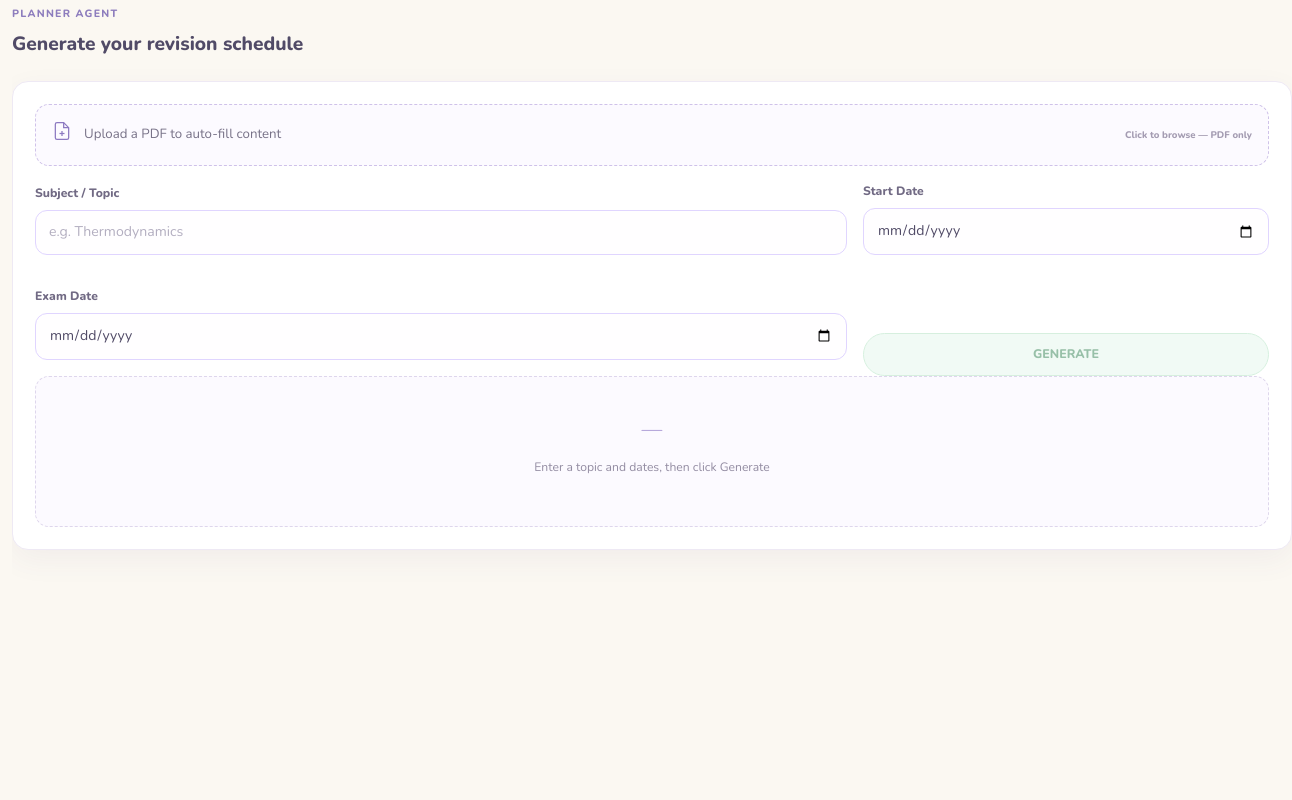
Test: shows a clear error instead of rendering blank task and duration cells
Type "Algebra" into the field labelled "Subject / Topic" at (441, 233), box 35,210 -> 847,255
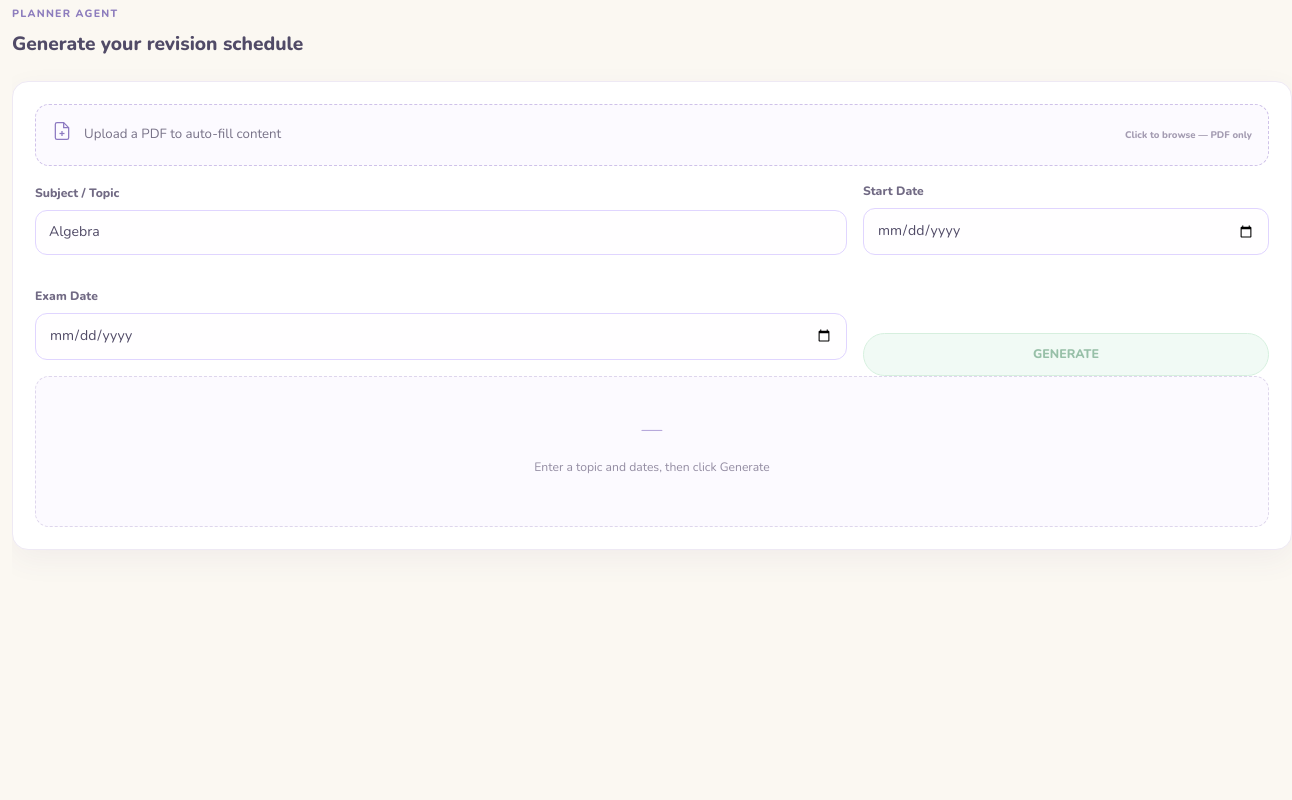
Type "2026-11-19" into the date field labelled "Start Date" at (1066, 232), box 863,208 -> 1269,255
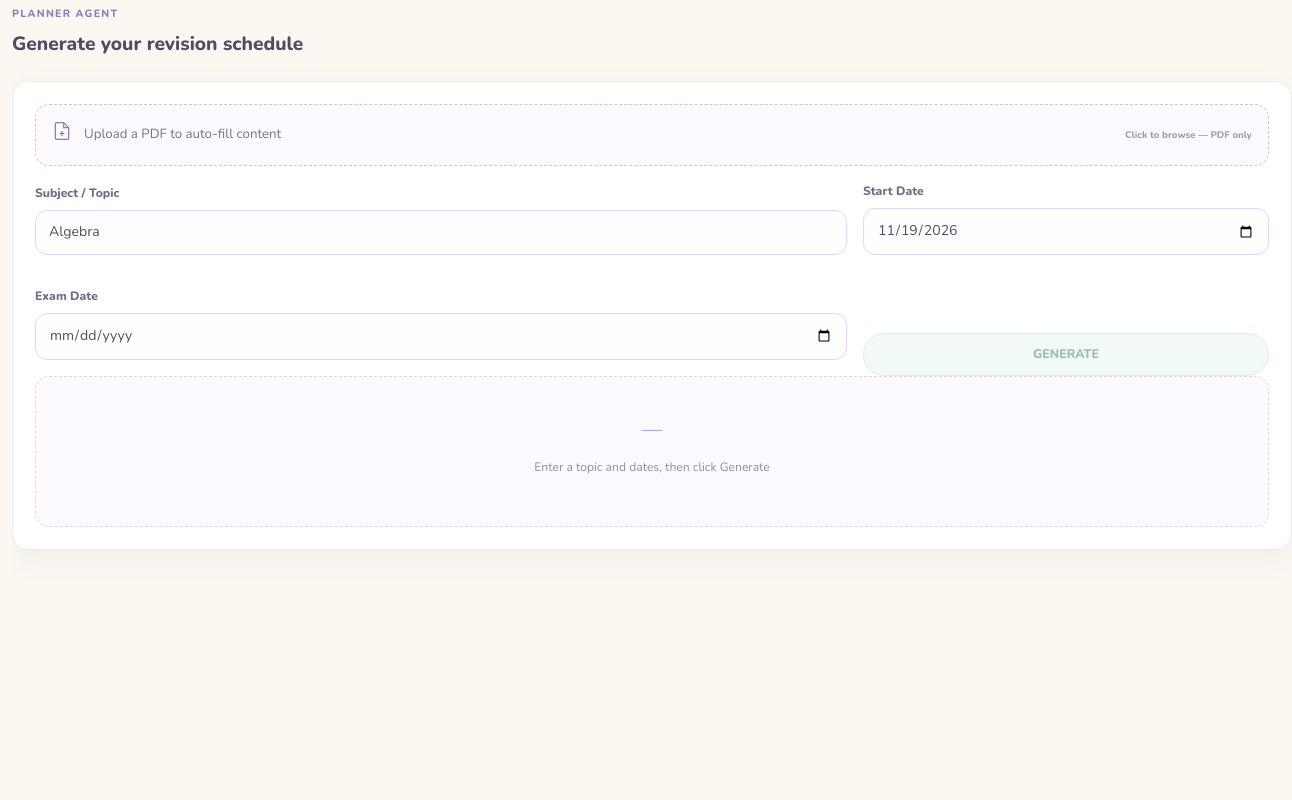
Type "2026-11-19" into the date field labelled "Exam Date" at (441, 336), box 35,313 -> 847,360
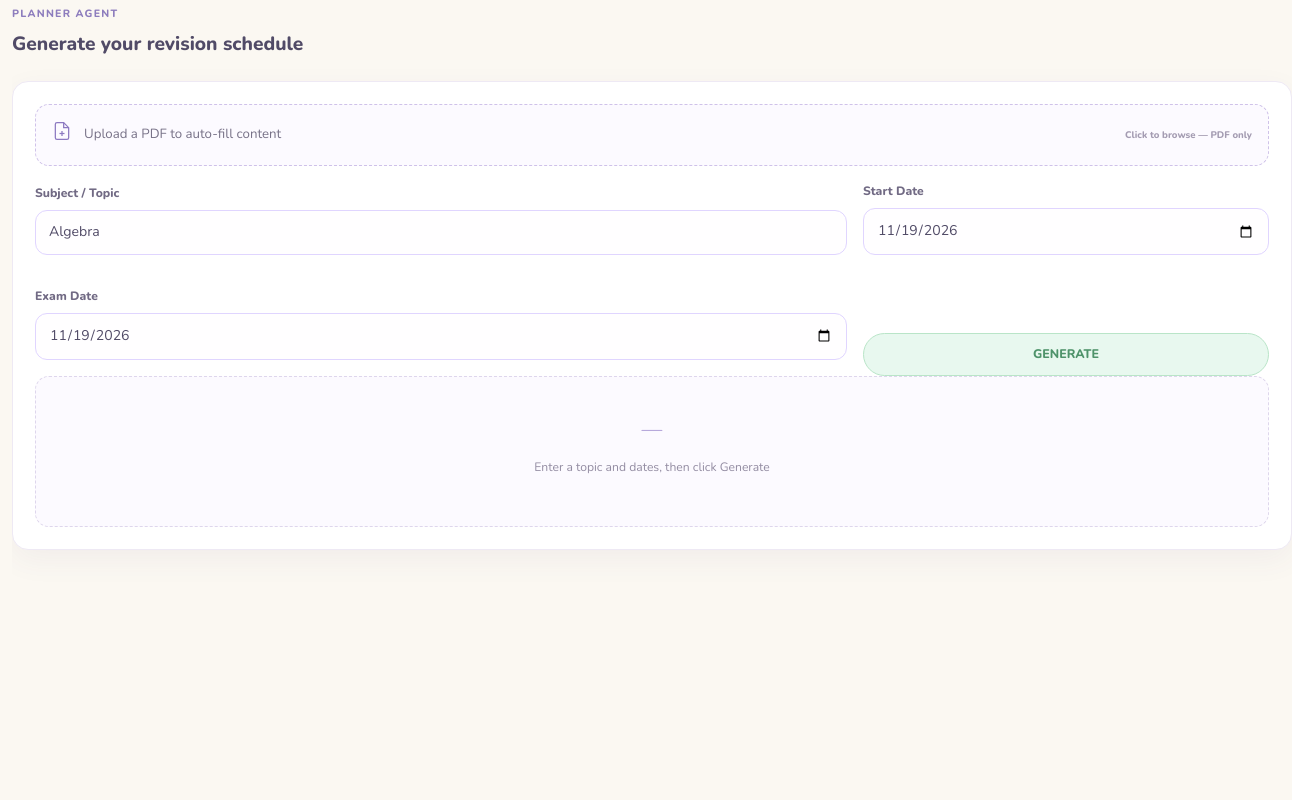
Click the button "GENERATE" at (1066, 354), box 863,333 -> 1269,376
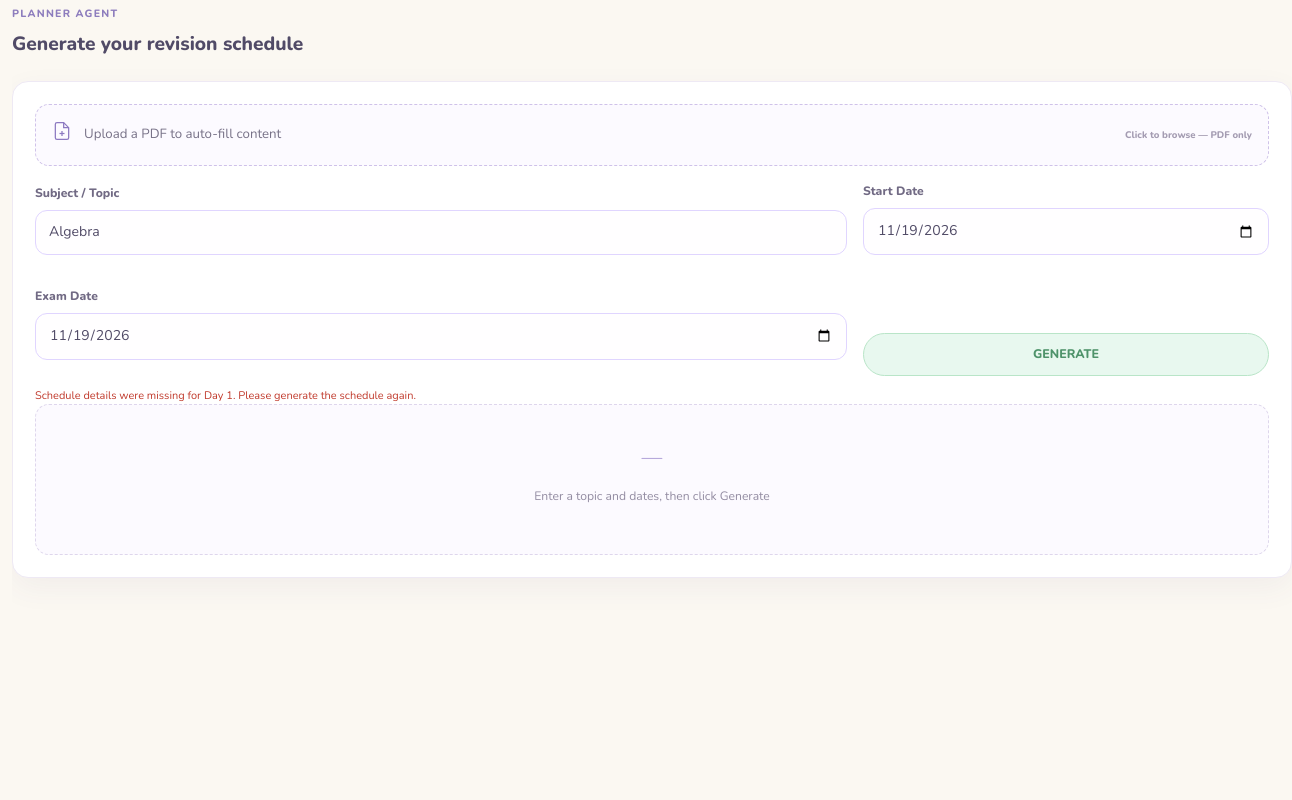
Now the text "Schedule details were missing" is shown, box 35,388 -> 416,403
